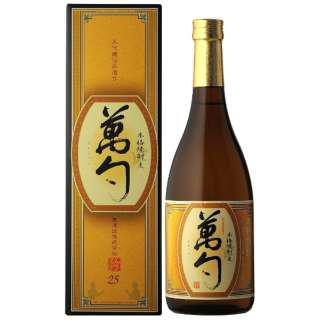soju: (165, 15, 259, 315)
